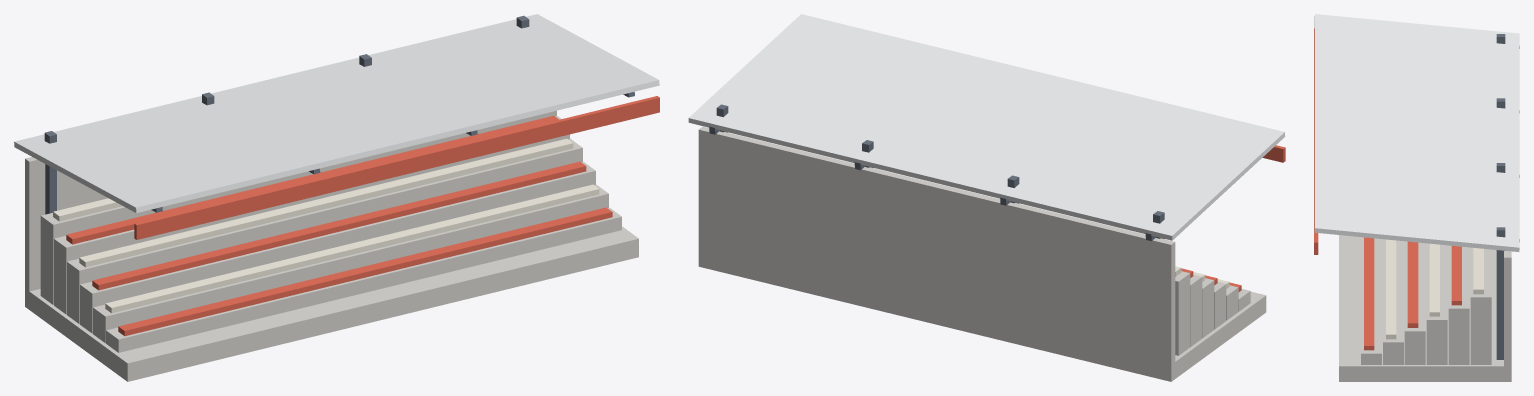
Rendered from grandstand.glb.
3 views of the same model, side by side, from view 1: azimuth 30°, elevation 25°; view 2: azimuth 150°, elevation 25°; view 3: azimuth 270°, elevation 25° (orthographic). The views are drawn at different scales.
Visible parts, largest first — view 1: RoofCanopy, Foundation, RoofFascia, Step_3, Step_2, Step_0, Step_1, Seats_0, Seats_1, Seats_3, Seats_2, Step_5 (+5 smaller); view 2: BackWall, RoofCanopy, Foundation, Step_5, Step_4, Step_3, Step_2; view 3: RoofCanopy, Foundation, Step_5, Step_4, Step_3, Step_2, Step_1, Step_0, Seats_0, Seats_1, BackWall, Seats_2 (+5 smaller).
Boxes of the visible parts, x1,y1,x2,y2 form: RoofCanopy: (14,14,659,212); Foundation: (25,226,638,381); RoofFascia: (134,96,659,239); Step_3: (67,138,582,323); Step_2: (80,161,595,333); Step_0: (106,207,621,352); Step_1: (93,184,608,343); Seats_0: (118,207,612,336); Seats_1: (105,184,599,313); Seats_3: (79,138,573,267); Seats_2: (92,161,586,290); Step_5: (40,110,556,304); BackWall: (698,126,1175,381); RoofCanopy: (688,14,1285,240); Foundation: (1171,291,1266,378); Step_5: (1175,271,1190,355); Step_4: (1190,274,1202,346); Step_3: (1202,278,1214,337); Step_2: (1214,282,1226,329); RoofCanopy: (1314,14,1519,251); Foundation: (1339,235,1510,381); Step_5: (1470,247,1491,364); Step_4: (1448,245,1469,364); Step_3: (1426,243,1447,364); Step_2: (1404,241,1425,364); Step_1: (1383,239,1403,364); Step_0: (1361,237,1381,364); Seats_0: (1364,237,1374,350); Seats_1: (1386,239,1396,339); BackWall: (1504,251,1511,381); Seats_2: (1407,241,1418,327).
Size of the model in its own units: 26.6 by 9.04 by 10.8.
